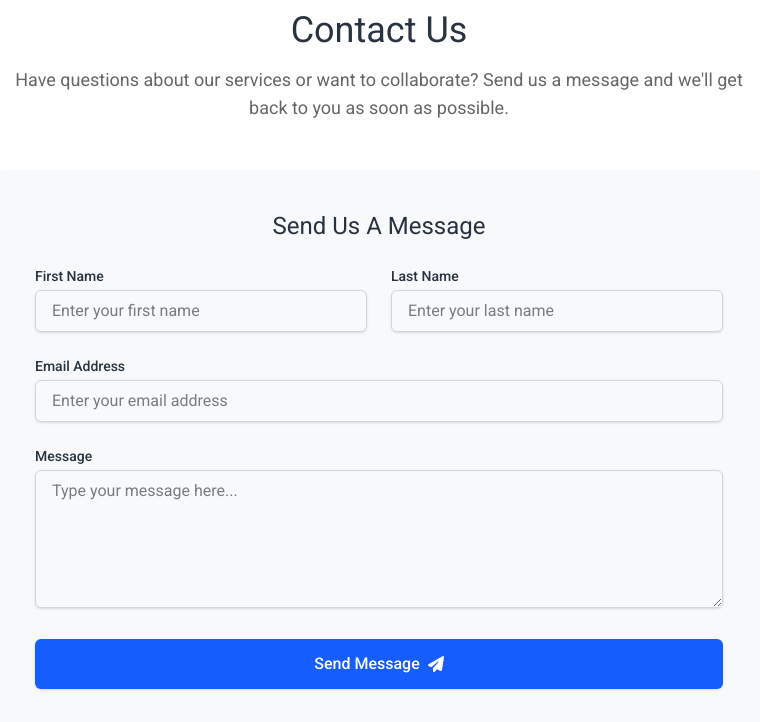
Test: Contact component › shows error message on failed submission
This screenshot has width=760, height=722.
Type "John" into the field labelled "First Name" at coordinates (201, 311), box [35,290,367,332]
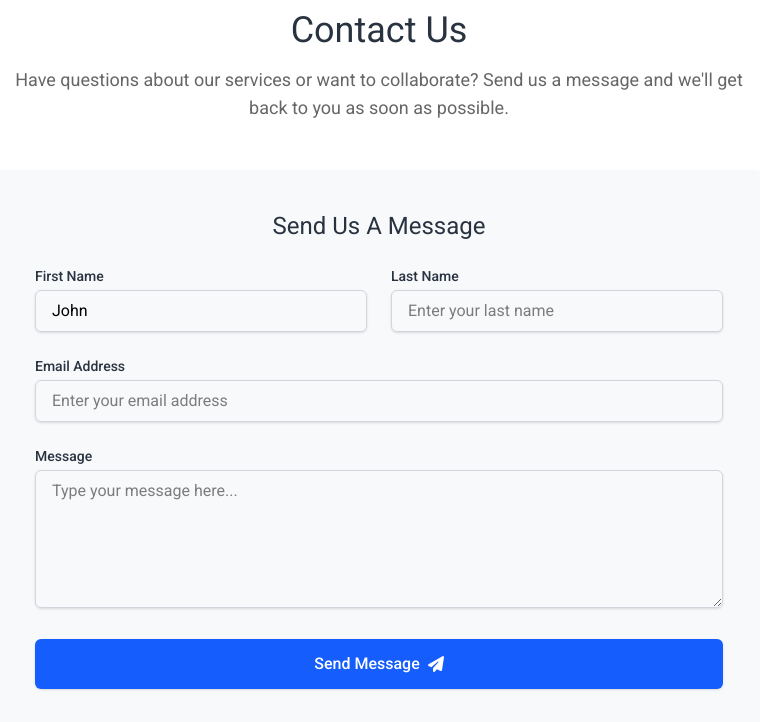
Type "Doe" into the field labelled "Last Name" at coordinates (557, 311), box [391,290,723,332]
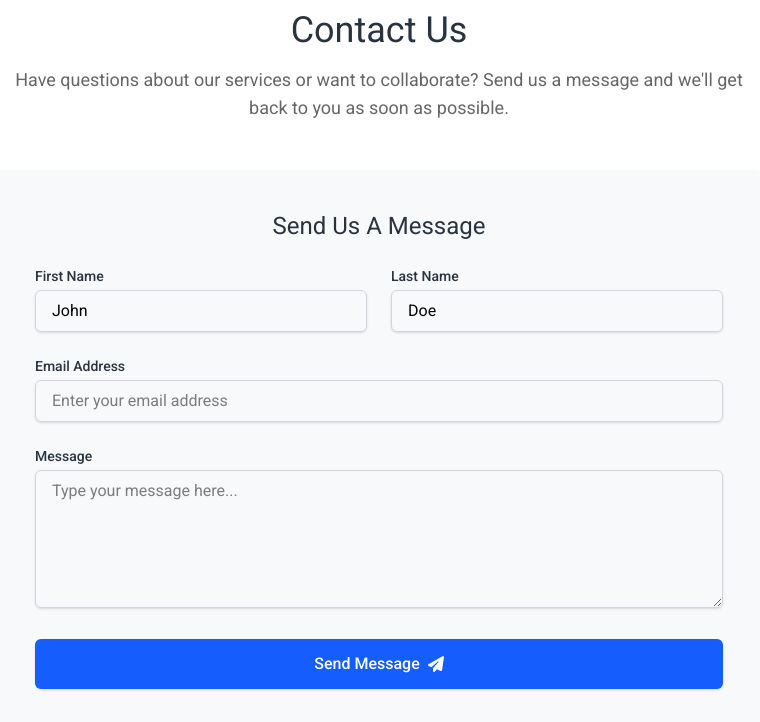
Type "john@example.com" into the field labelled "Email Address" at coordinates (379, 401), box [35,380,723,422]
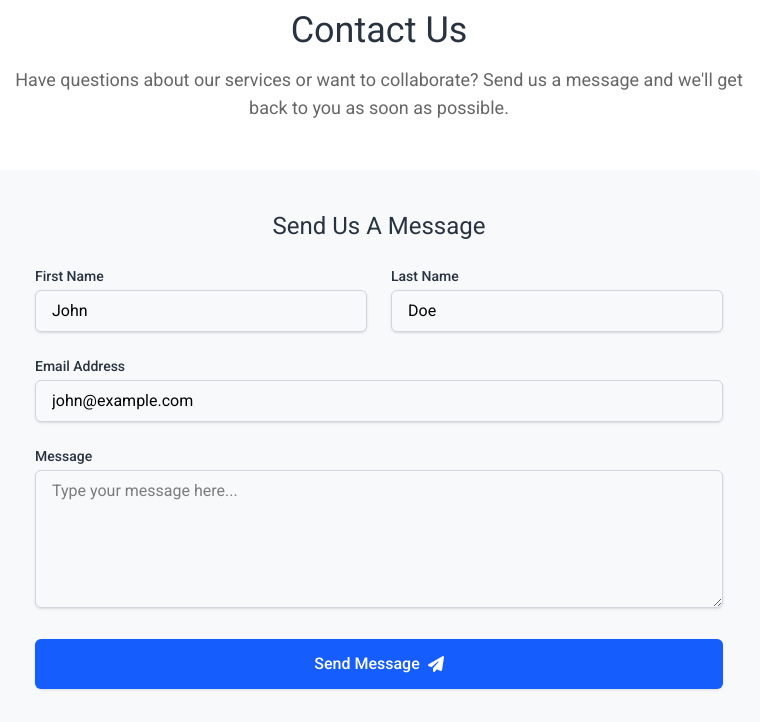
Type "Hello!" into the text box labelled "Message" at coordinates (379, 539), box [35,470,723,608]
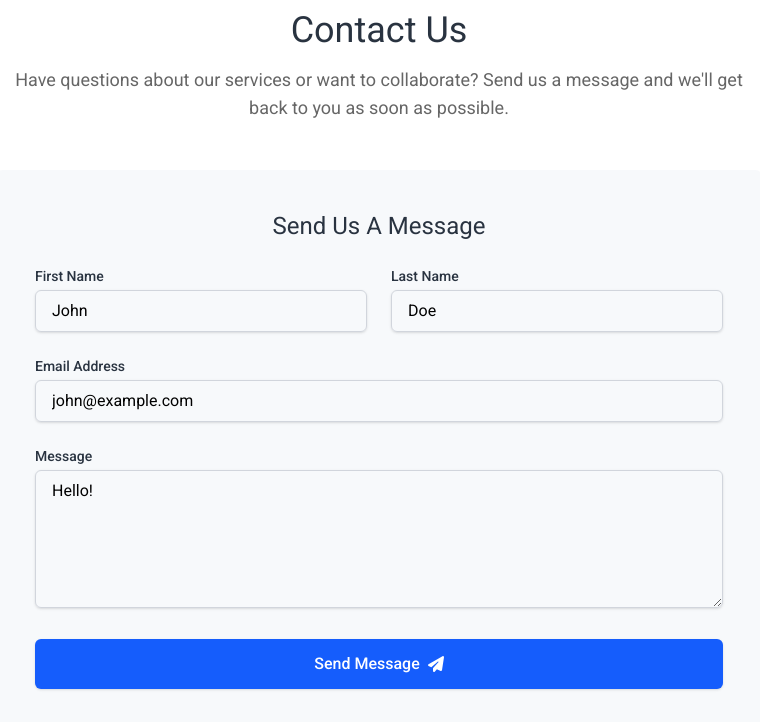
Click the button "Send Message" at coordinates (379, 664), box [35,639,723,689]
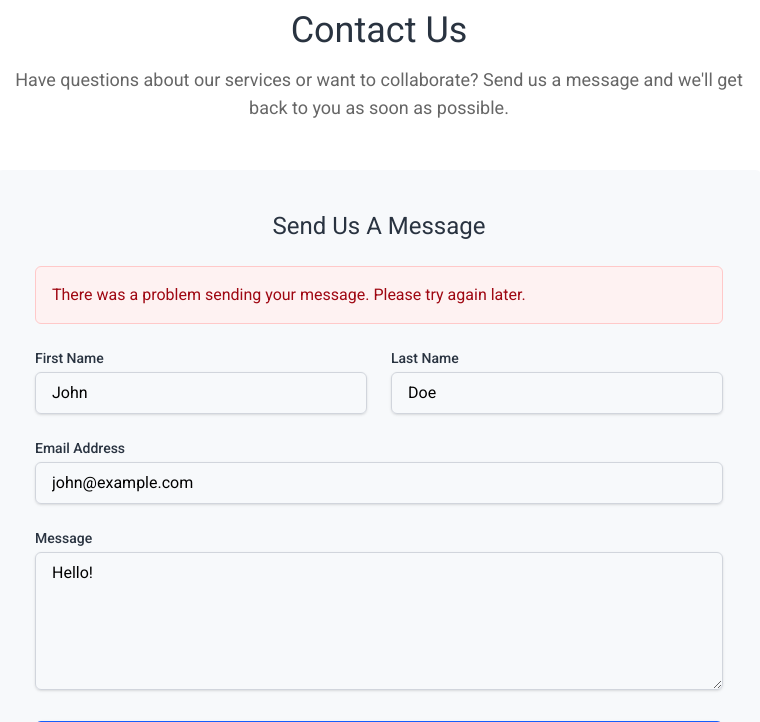
Expected: the text "There was a problem sending your message" is shown, [52,285,526,304]
